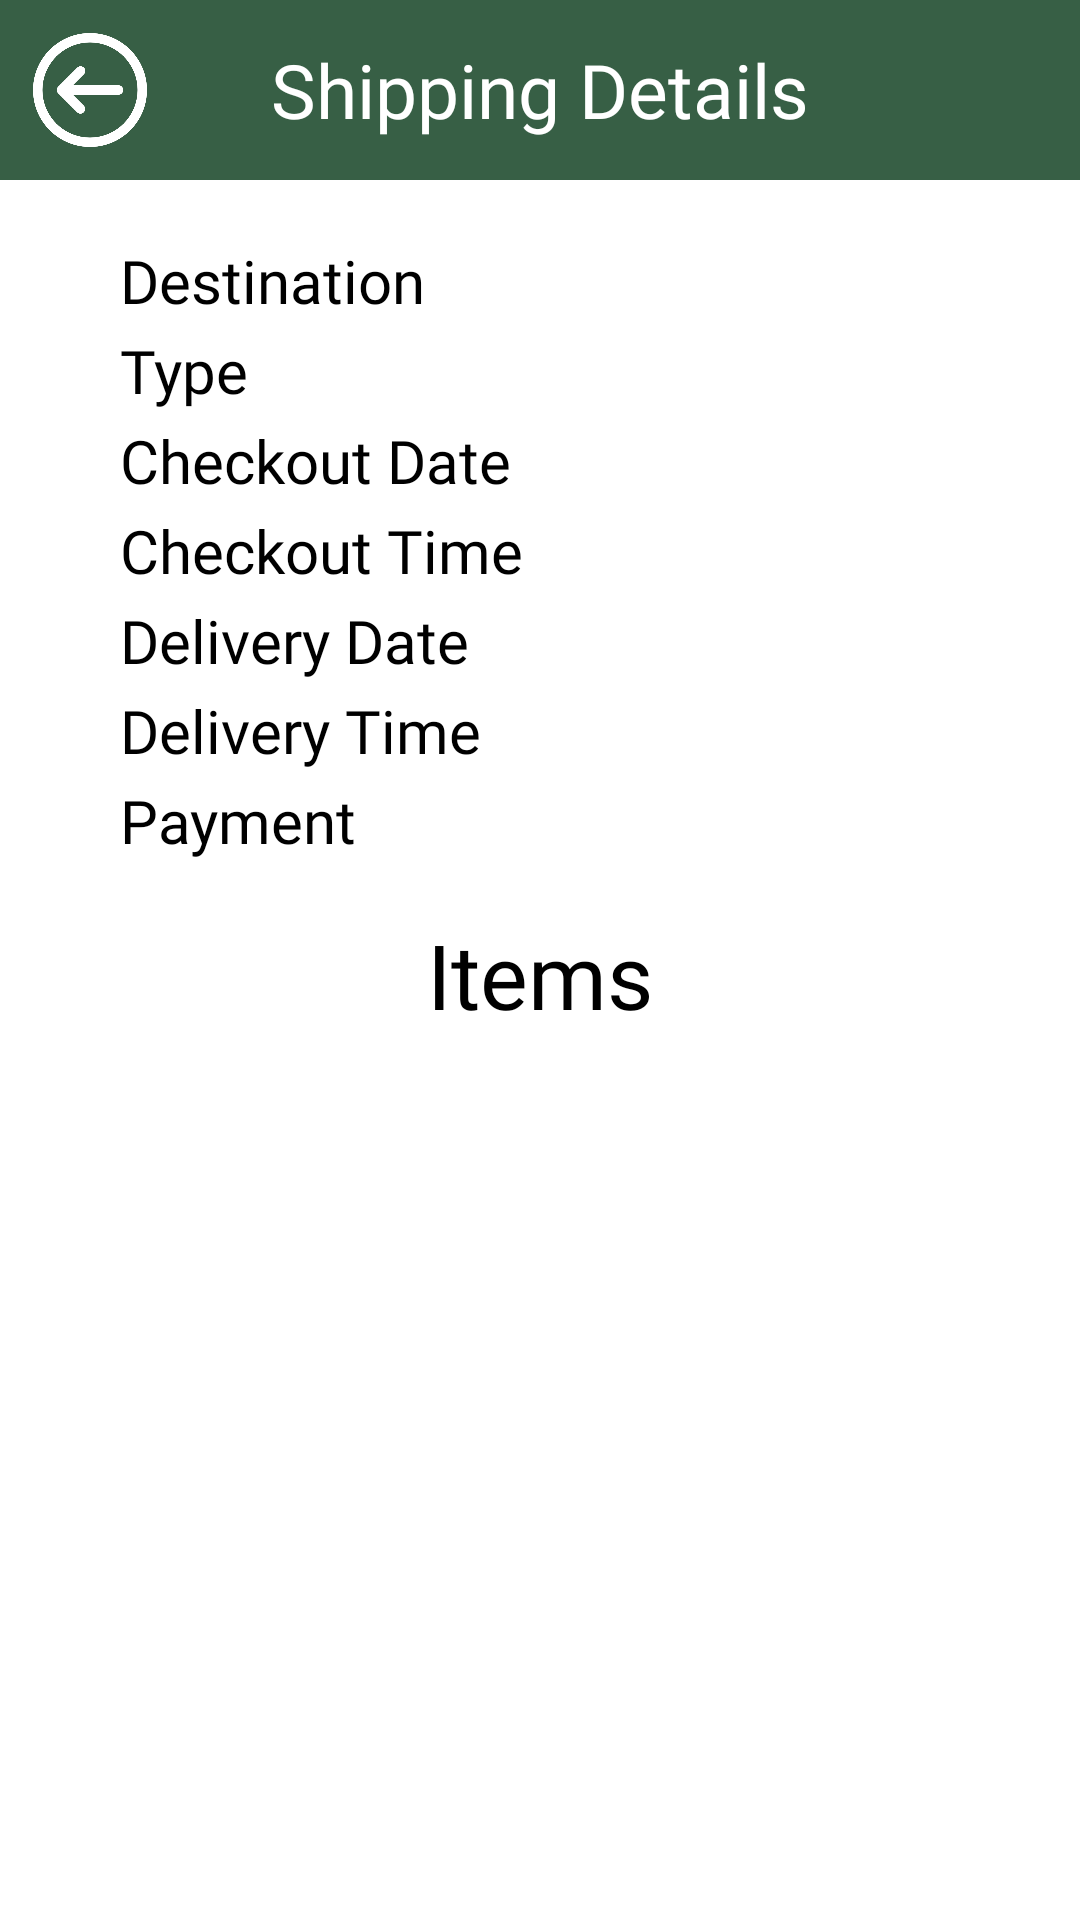

Icons on this 1080 x 1920 Android screen, each with the point to tap as [x,y]:
back: [90,90]
